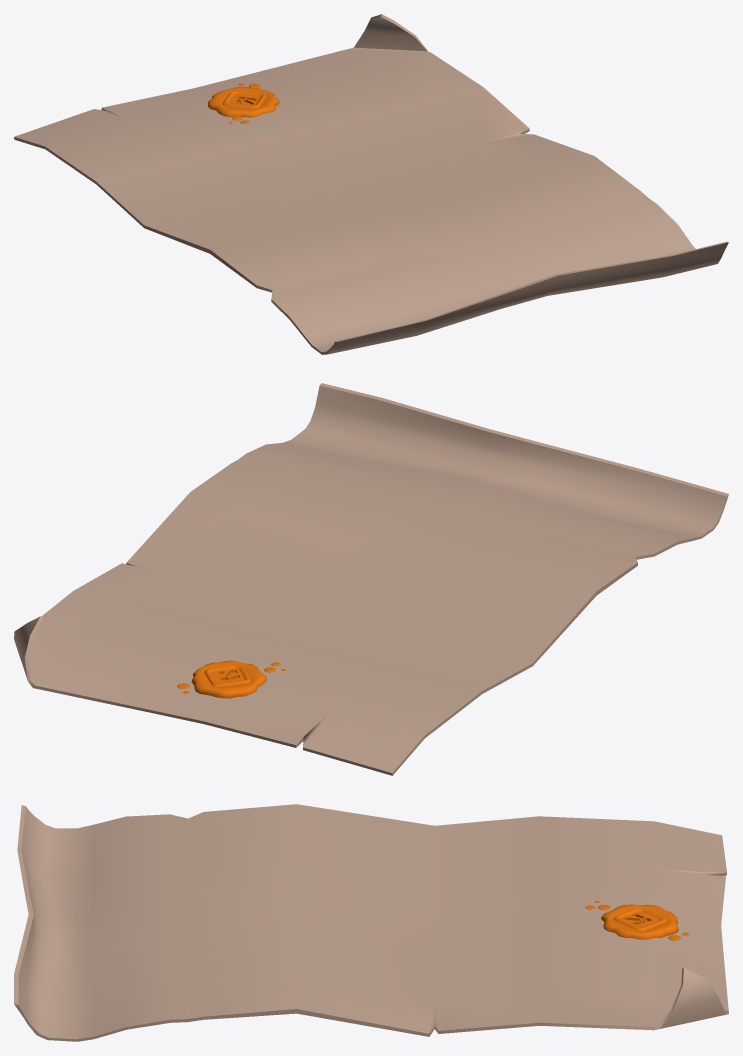
File: (Item)Kings-Letter.fbx
The picture shows the model from 3 angles, top to bottom: view 1: azimuth 30°, elevation 25°; view 2: azimuth 150°, elevation 25°; view 3: azimuth 270°, elevation 25°; orthographic projection. The views are drawn at different scales.
Parts seen in each view (by area): view 1: Letter; view 2: Letter; view 3: Letter.
Part boxes in pixels (x1,y1,x2,y2): Letter: [14, 14, 728, 354]; Letter: [14, 383, 728, 775]; Letter: [14, 804, 728, 1041].
Size of the model in its own units: 28.9 by 3.71 by 41.65.
